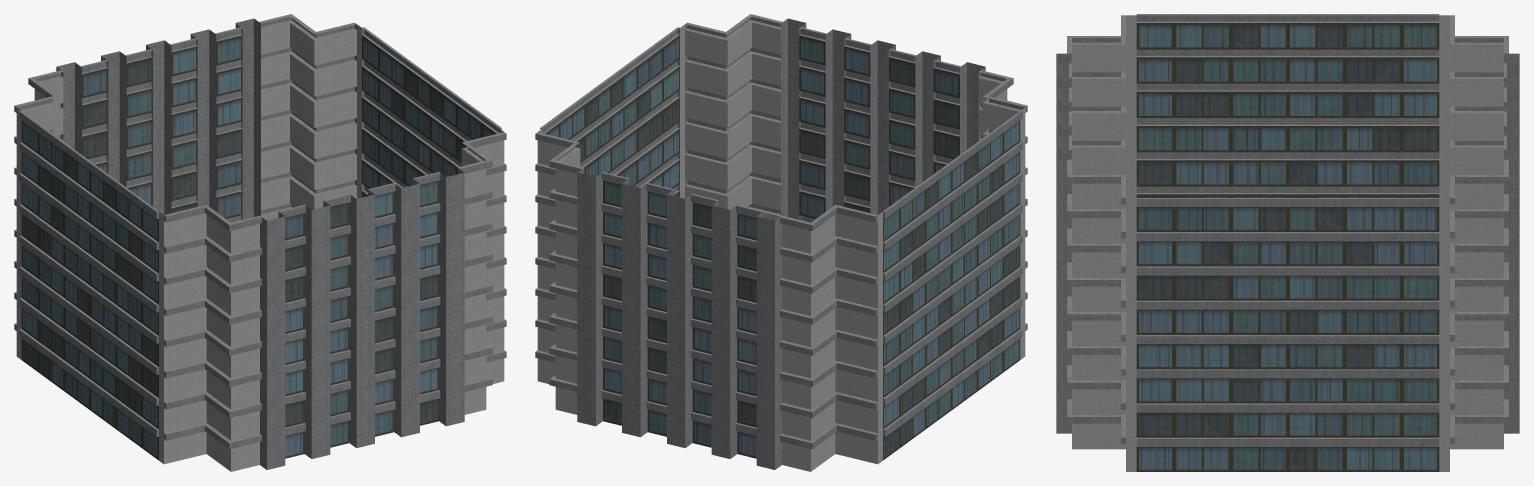
File: jctBld50C_mdl_low.fbx
3 views of the same model, side by side, from view 1: azimuth 30°, elevation 25°; view 2: azimuth 150°, elevation 25°; view 3: azimuth 270°, elevation 25° (orthographic). The views are drawn at different scales.
Parts seen in each view (by area): view 1: jctBld50C_mdl_low; view 2: jctBld50C_mdl_low; view 3: jctBld50C_mdl_low.
Part boxes in pixels (x1,y1,x2,y2): jctBld50C_mdl_low: (14,14,506,471); jctBld50C_mdl_low: (535,14,1027,471); jctBld50C_mdl_low: (1056,14,1519,471).
Size of the model in its own units: 4056 by 2800 by 4288.
